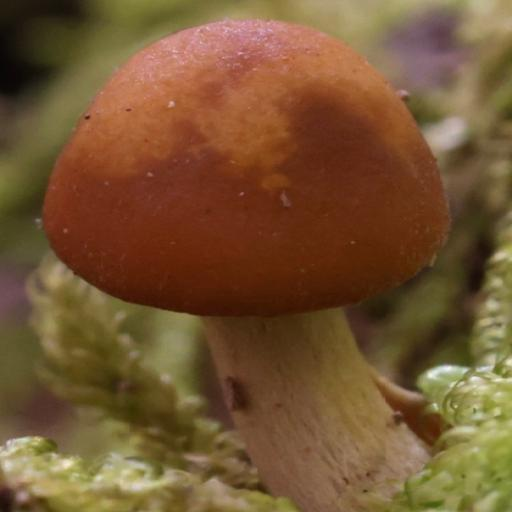mushroom: (48, 18, 458, 441)
